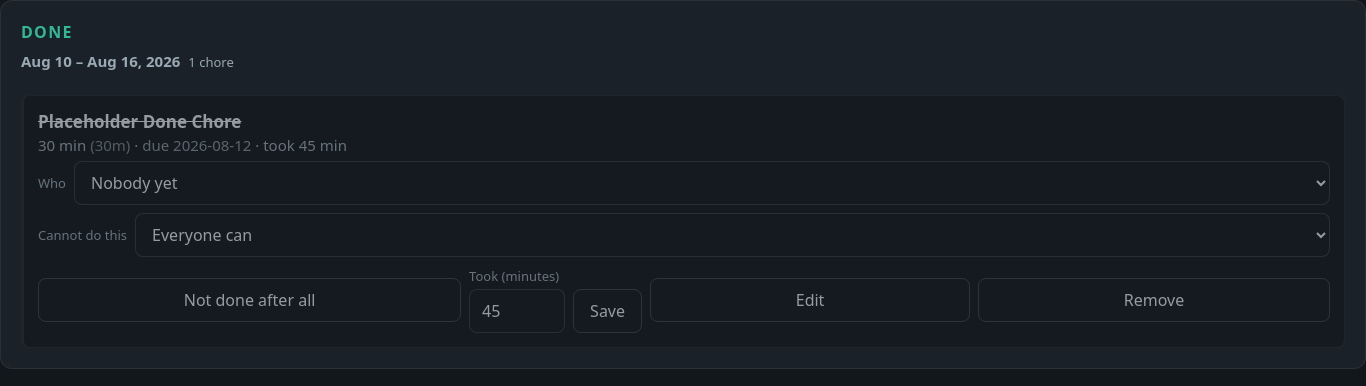
it: #12 — expected-vs-actual capture, on the Done surface › AC 1 — a bad actual is refused with a sentence before any request
This screenshot has width=1366, height=386.
Replace the text in the number field named "Minutes Placeholder Done Chore actually took" with "-5" at (517, 311), box [469,289,565,333]
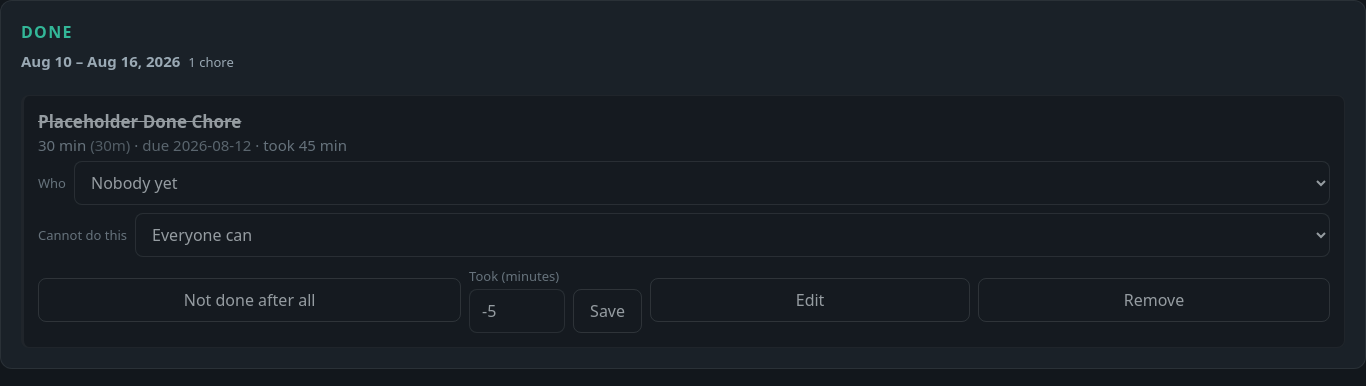
Click the button "Save".
click(608, 311)  # box [573,289,642,333]
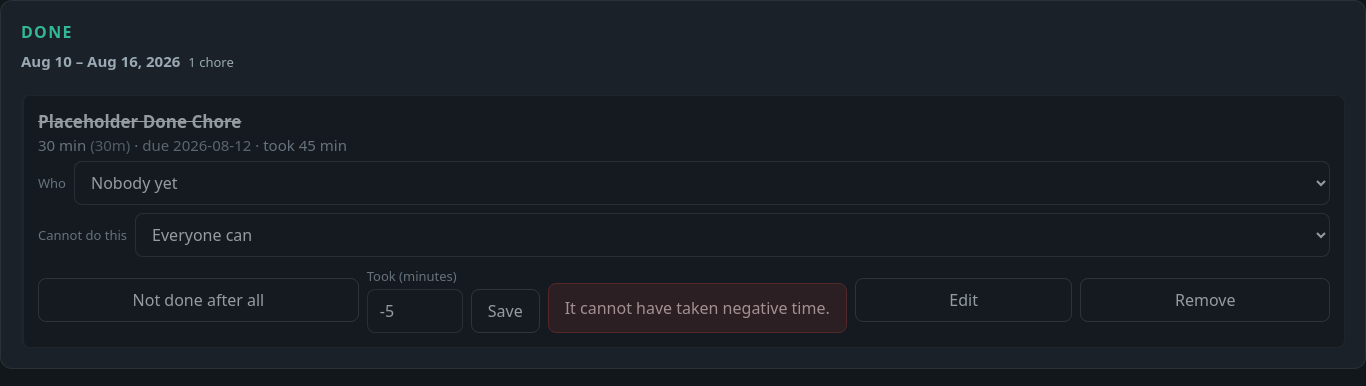
Check: the message shows "negative", box [565,297,830,319]
